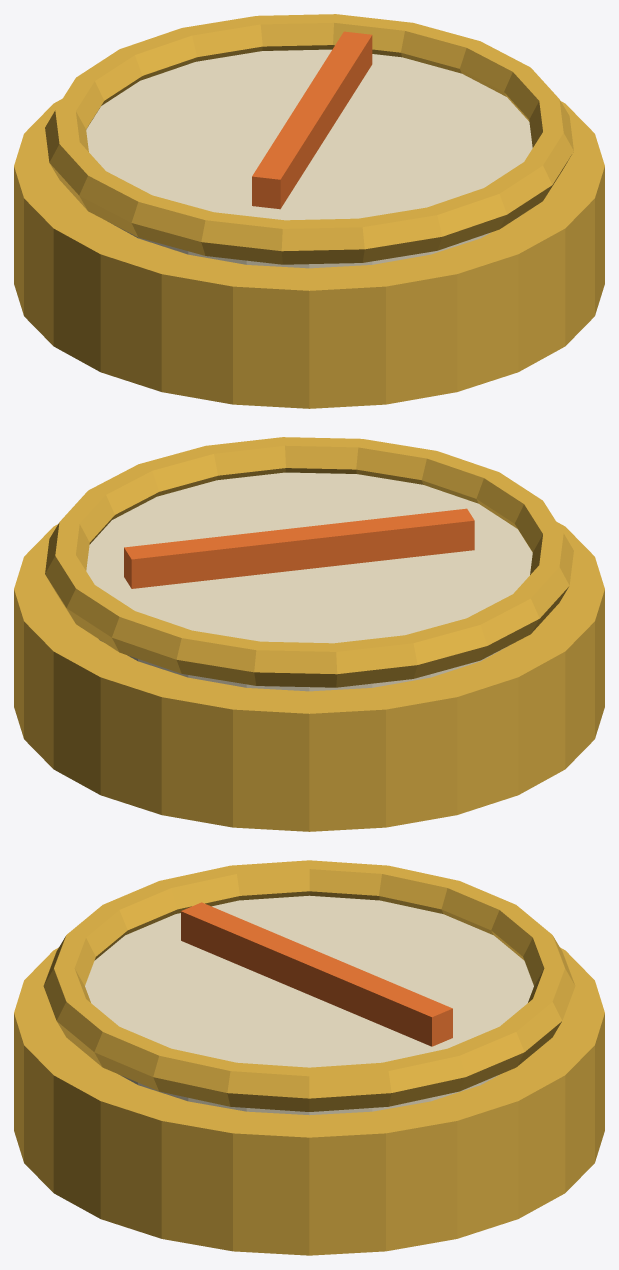
Rendered from reliquia_bussola.glb.
3 renders of one model, top to bottom at view 1: azimuth 30°, elevation 25°; view 2: azimuth 150°, elevation 25°; view 3: azimuth 270°, elevation 25°, orthographic.
Parts seen in each view (by area): view 1: reliquia_bussola; view 2: reliquia_bussola; view 3: reliquia_bussola.
Boxes of the visible parts, x1=… form: reliquia_bussola: x1=14, y1=14, x2=604, y2=408; reliquia_bussola: x1=14, y1=437, x2=604, y2=831; reliquia_bussola: x1=14, y1=860, x2=604, y2=1255.
Bounding box in the file's own units: 2 × 0.65 × 2.
